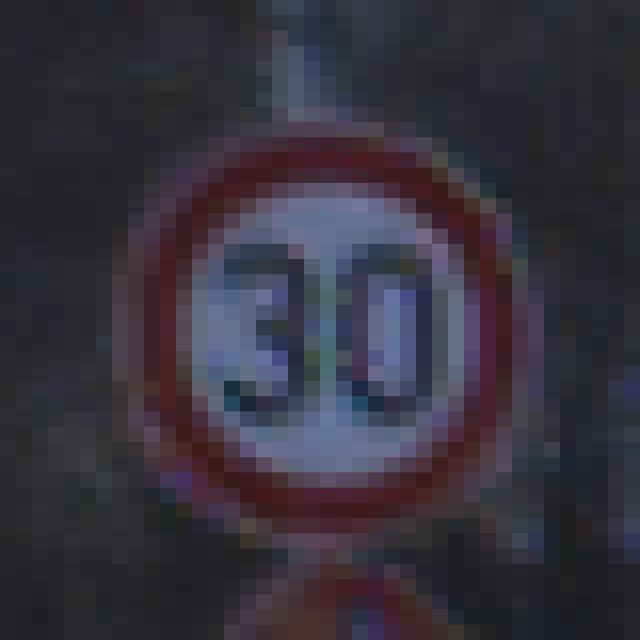Speed Limit -30-: (72, 69, 552, 556)
